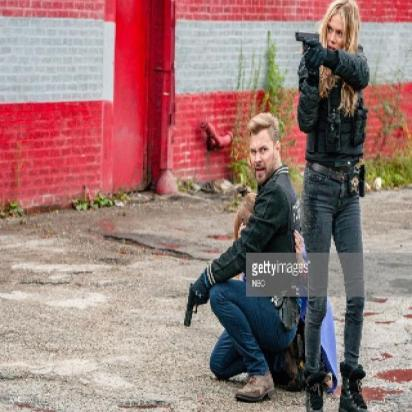Gun: (180, 282, 200, 326), (292, 29, 322, 55)
